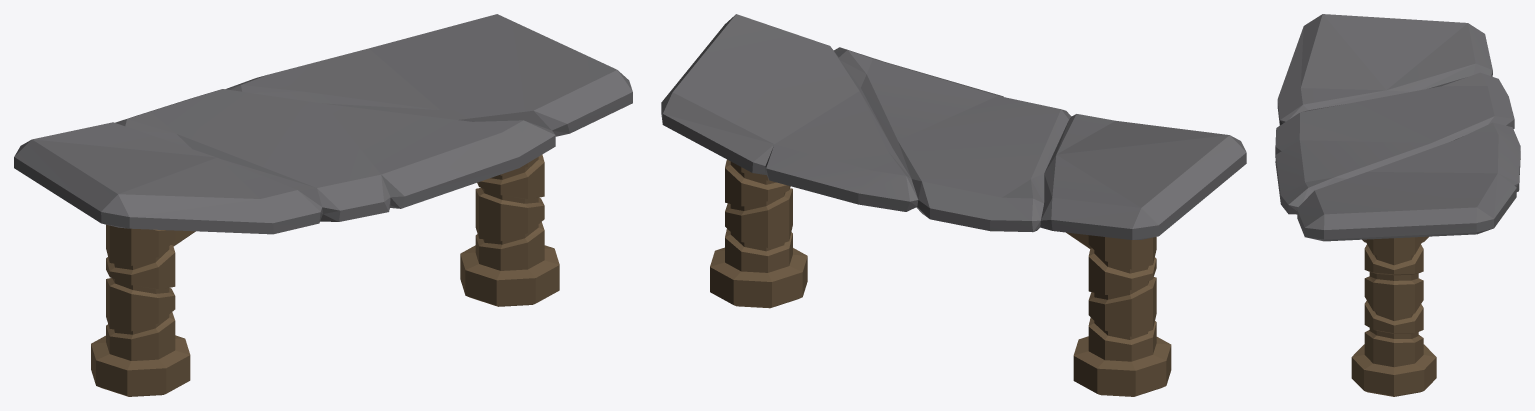
File: Banca_01.glb
3 renders of one model, left to right at view 1: azimuth 30°, elevation 25°; view 2: azimuth 150°, elevation 25°; view 3: azimuth 270°, elevation 25°, orthographic. The views are drawn at different scales.
Visible parts, largest first — view 1: SM_Prop_Alter_01; view 2: SM_Prop_Alter_01; view 3: SM_Prop_Alter_01.
Boxes of the visible parts, x1,y1,x2,y2 form: SM_Prop_Alter_01: [14, 14, 632, 396]; SM_Prop_Alter_01: [661, 14, 1246, 396]; SM_Prop_Alter_01: [1275, 14, 1520, 396].
Bounding box in the file's own units: 2.3 × 0.9713 × 1.12.
1 material, 1 textured.
